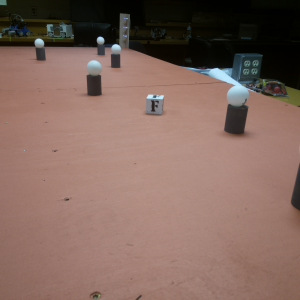blockF: (146, 93, 164, 116)
corner: (119, 12, 131, 48)
obstacle: (224, 84, 248, 137), (87, 61, 103, 94), (110, 44, 121, 69), (34, 38, 45, 61), (97, 37, 105, 54)
